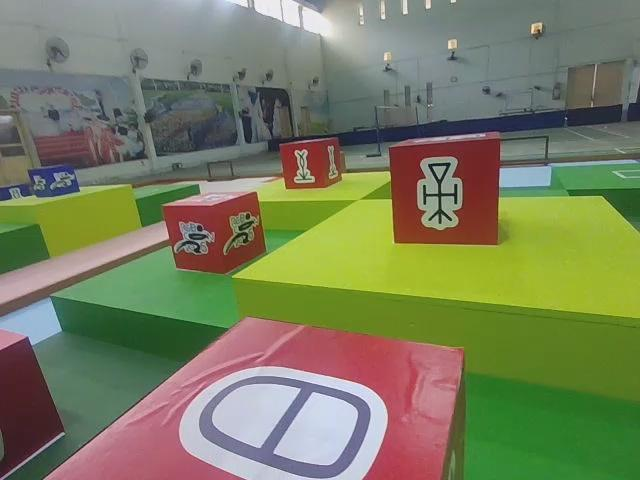R1: (159, 193, 265, 274)
R2 Fake: (40, 313, 469, 480)
R2 Real: (386, 129, 503, 248), (280, 136, 343, 192)
